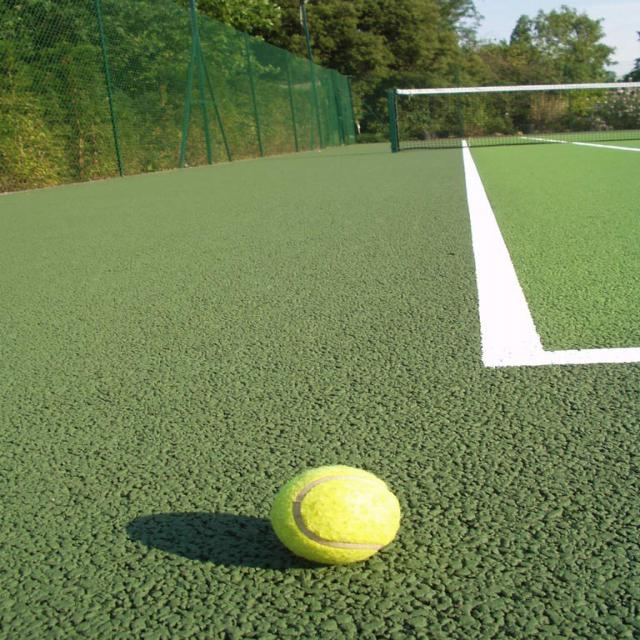Tennis-Ball: (260, 464, 423, 570)
